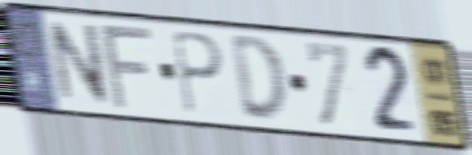2: (358, 42, 426, 139)
7: (303, 38, 352, 131)
D: (227, 33, 290, 128)
F: (99, 24, 157, 114)
N: (46, 19, 113, 109)
P: (168, 27, 227, 118)
